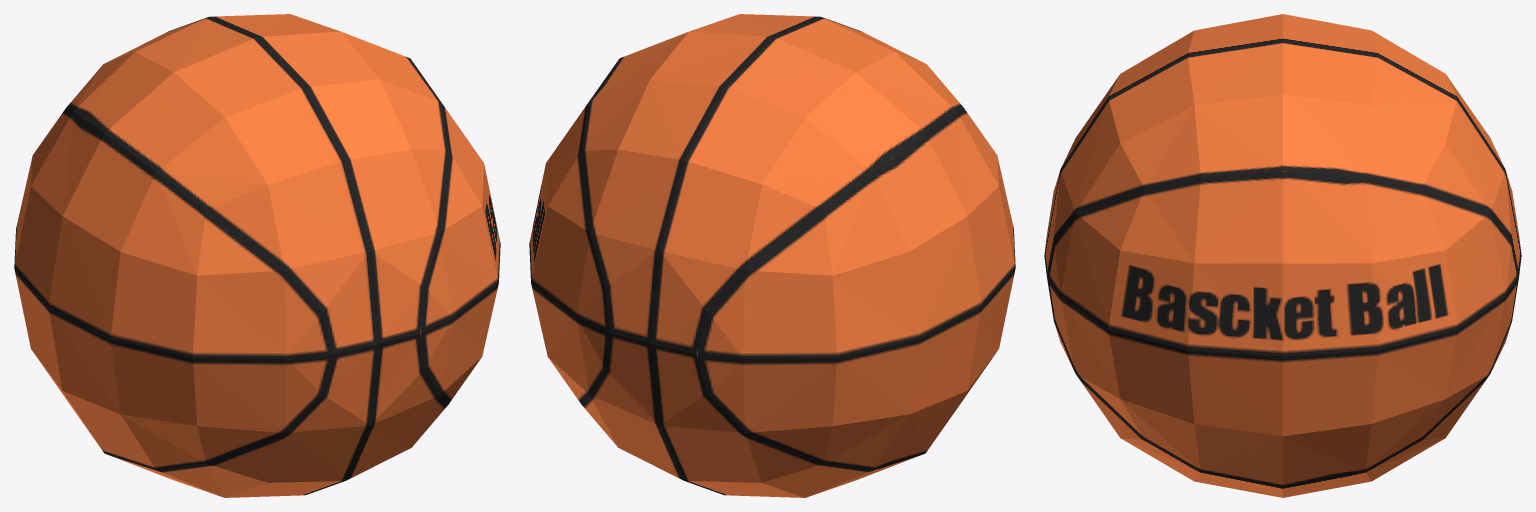
File: BasketBall.fbx
The picture shows the model from 3 angles, left to right: view 1: azimuth 30°, elevation 25°; view 2: azimuth 150°, elevation 25°; view 3: azimuth 270°, elevation 25°; orthographic projection.
Parts seen in each view (by area): view 1: Mesh; view 2: Mesh; view 3: Mesh.
Part boxes in pixels (<box>): Mesh: <box>14,14,500,497</box>; Mesh: <box>529,14,1015,497</box>; Mesh: <box>1044,14,1521,497</box>.
Size of the model in its own units: 24 by 24 by 24.
Materials: 1 (1 with a texture image).
